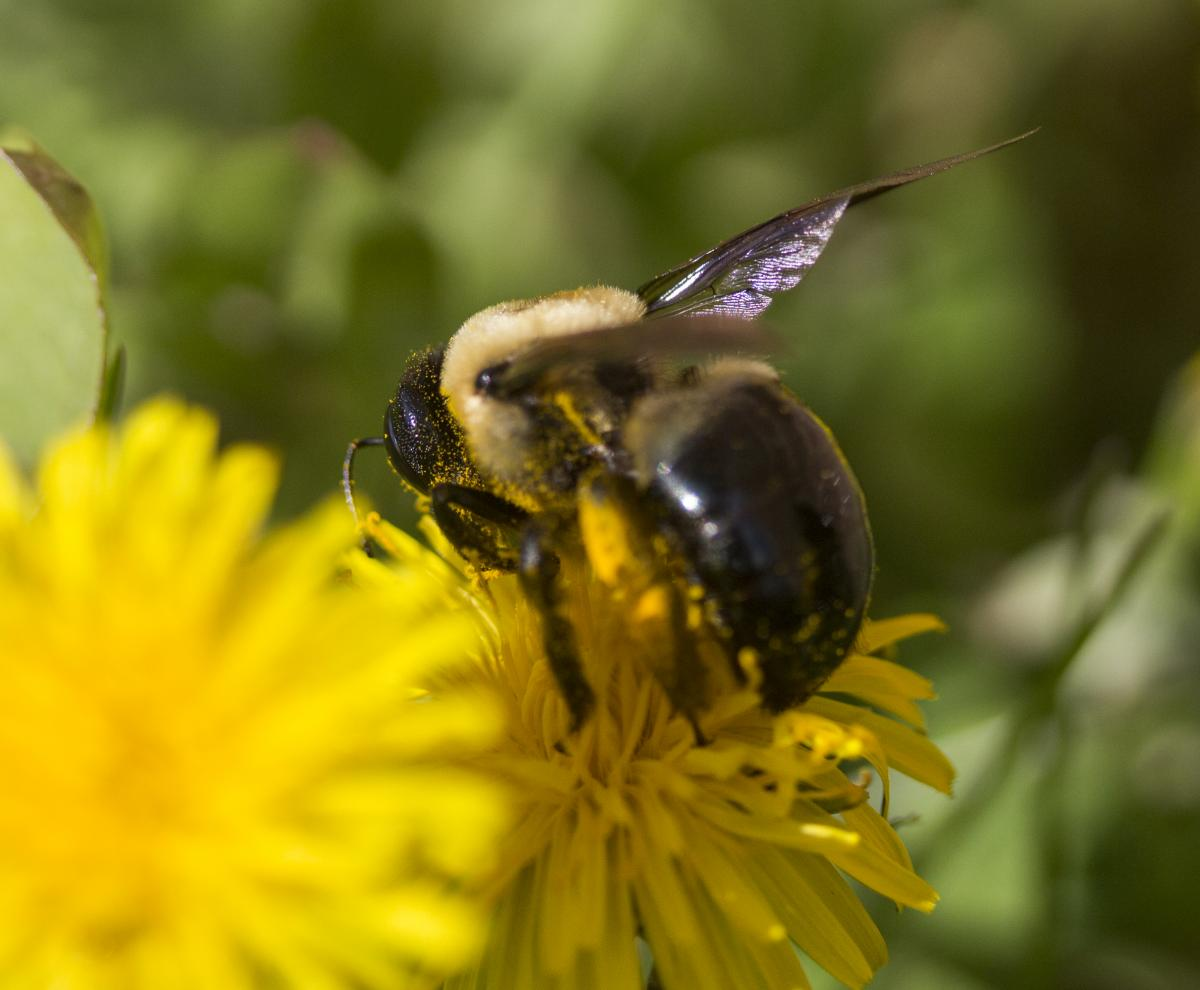dandelion: (23, 459, 468, 988), (420, 542, 925, 990)
